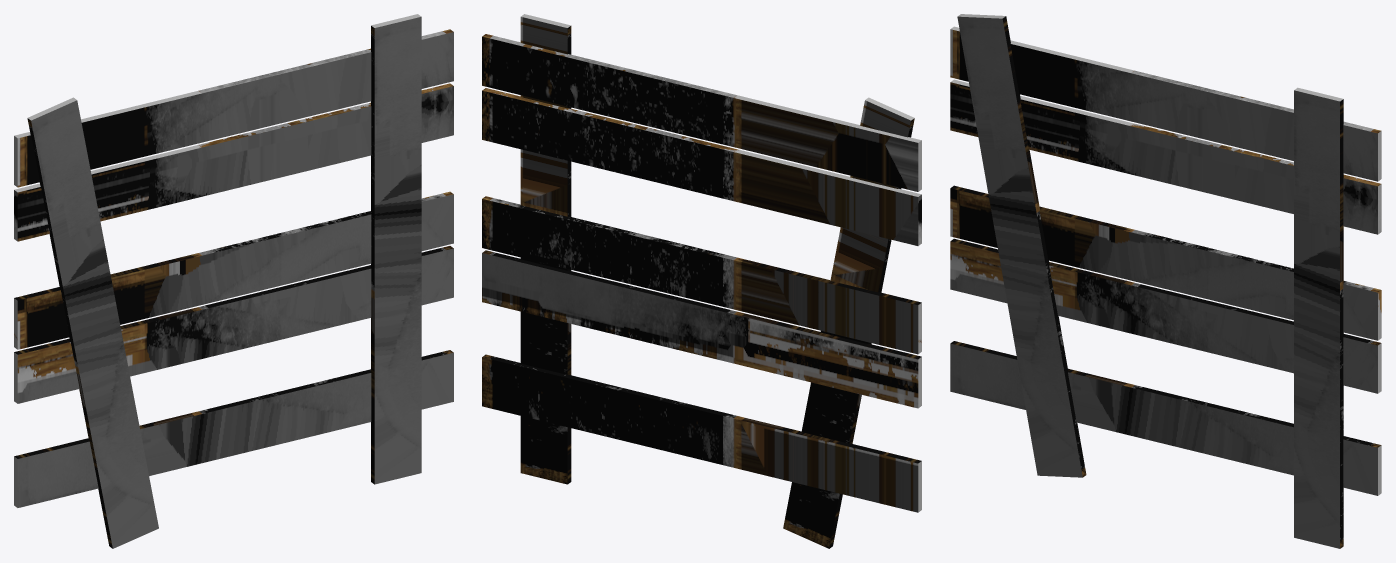
Rendered from window boards 3.fbx.
3 views of the same model, side by side, from view 1: azimuth 30°, elevation 25°; view 2: azimuth 150°, elevation 25°; view 3: azimuth 330°, elevation 25° (orthographic). The views are drawn at different scales.
Visible parts, largest first — view 1: window boards; view 2: window boards; view 3: window boards.
Part boxes in pixels (x1,y1,x2,y2): window boards: (14, 14, 453, 548); window boards: (482, 14, 921, 548); window boards: (950, 14, 1381, 548).
Size of the model in its own units: 397 by 398 by 10.78.
